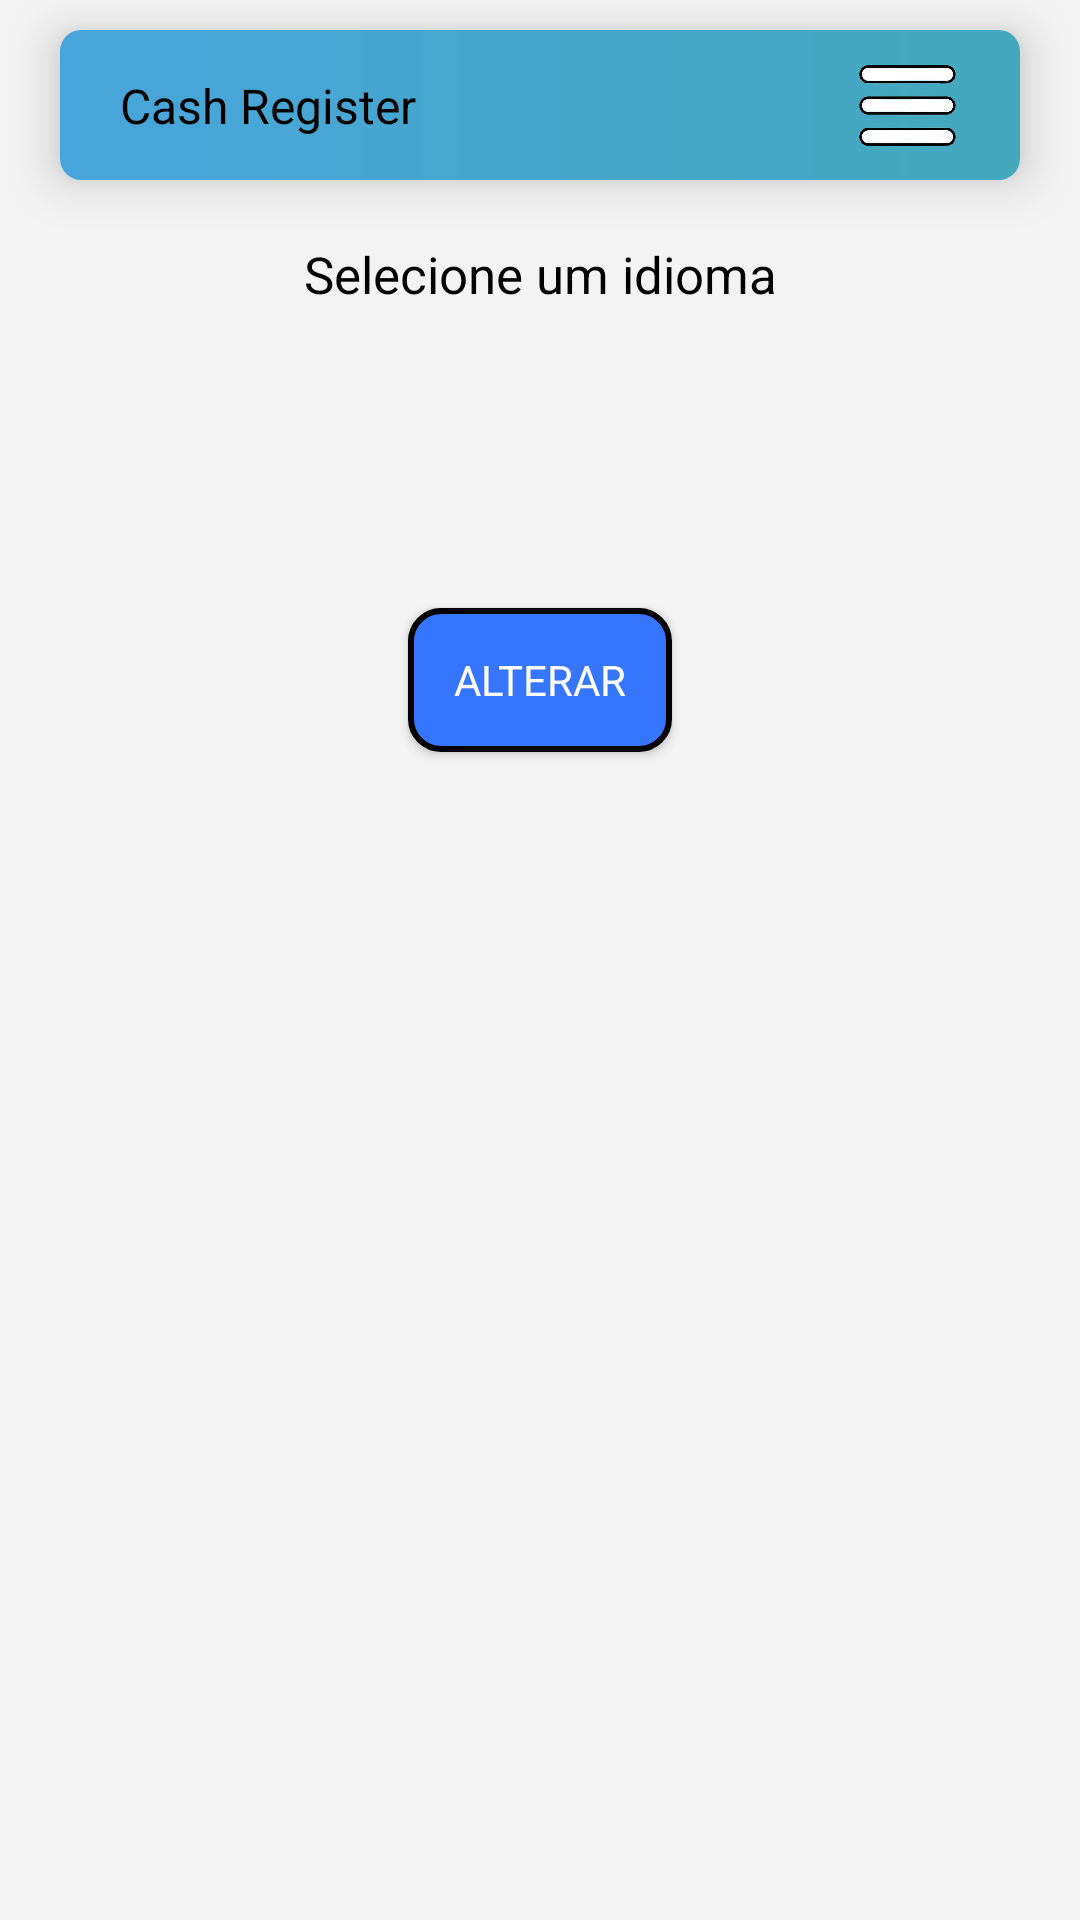

Locate icon controls on the screen. Image size 1080×1920, boxes as (x1, y1, x2, y2).
menu: (859, 65, 956, 146)
